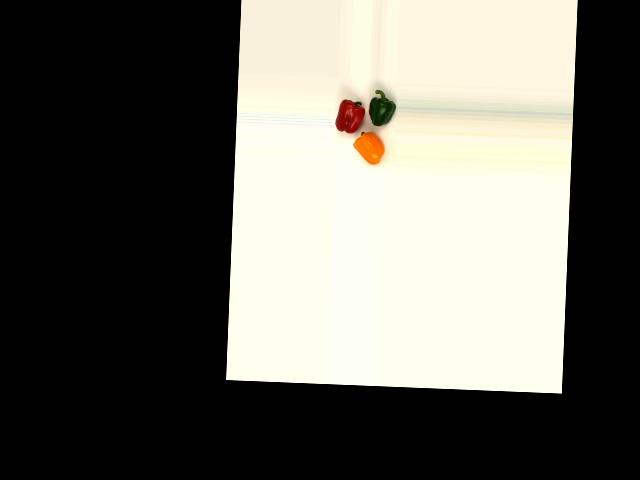bell_pepper: (366, 88, 396, 127)
